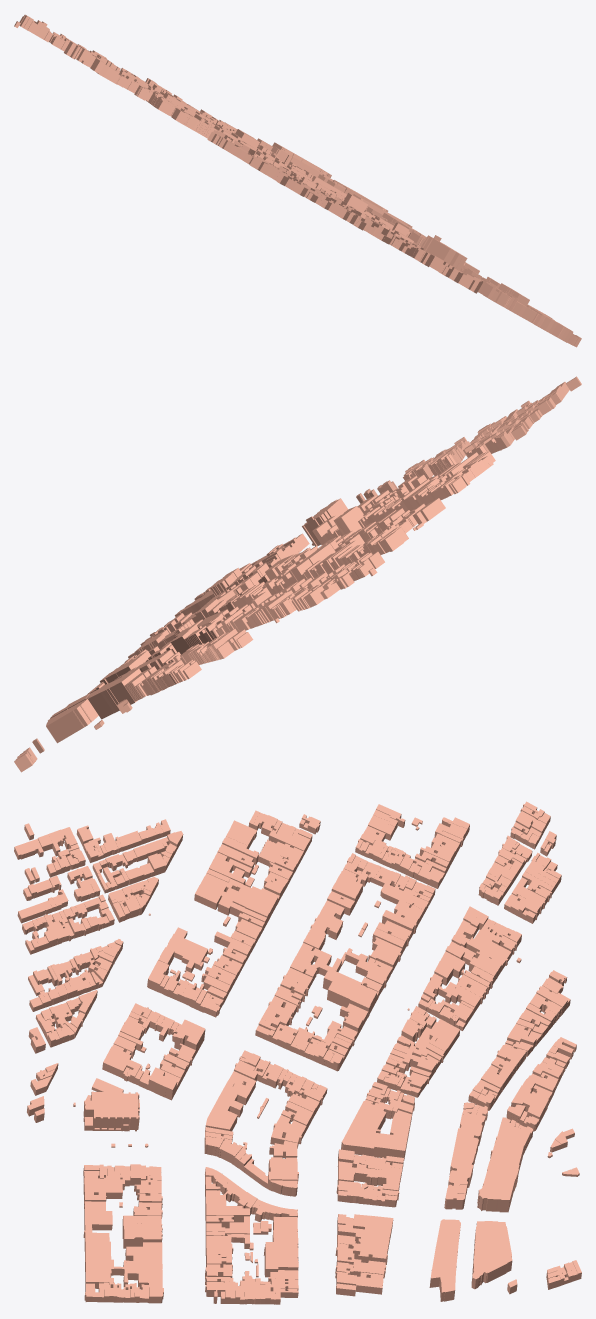
The picture shows the model from 3 angles, top to bottom: view 1: azimuth 30°, elevation 25°; view 2: azimuth 150°, elevation 25°; view 3: azimuth 270°, elevation 25°; orthographic projection. The views are drawn at different scales.
Size of the model in its own units: 531 by 392 by 637.
